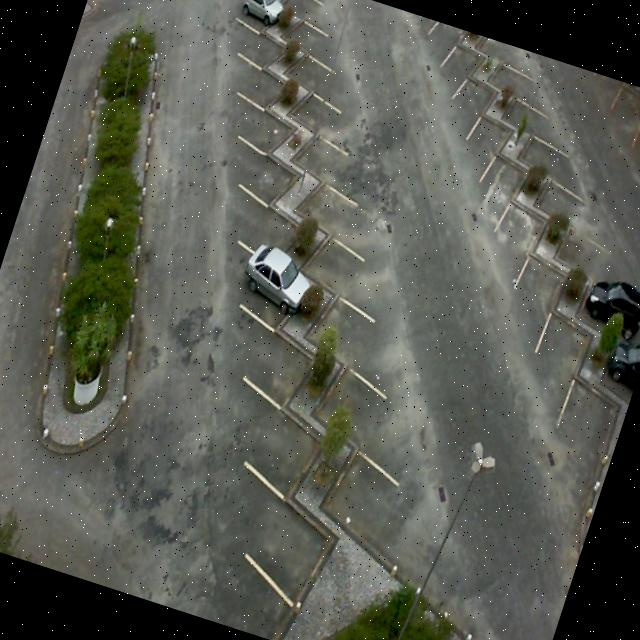empty: (239, 463, 362, 608), (240, 374, 346, 489), (326, 440, 422, 546), (302, 352, 400, 454), (238, 299, 334, 403), (310, 280, 396, 370), (300, 214, 387, 300), (550, 374, 624, 464), (300, 166, 380, 242), (240, 128, 317, 206), (237, 182, 314, 259), (508, 242, 573, 332), (296, 115, 374, 187), (531, 298, 596, 384), (557, 218, 631, 286), (286, 32, 358, 100), (234, 84, 305, 152), (488, 195, 550, 272), (470, 142, 532, 218), (233, 40, 299, 107), (458, 106, 516, 180), (538, 166, 604, 229), (296, 78, 360, 140), (432, 36, 489, 104), (506, 82, 570, 142), (445, 67, 501, 133), (236, 11, 298, 68), (520, 124, 578, 180), (286, 8, 344, 58), (420, 20, 470, 72), (494, 53, 546, 103), (606, 82, 640, 142), (480, 37, 530, 69), (277, 0, 335, 26), (628, 111, 640, 173)
occupied: (236, 235, 324, 331), (578, 271, 640, 347), (596, 339, 640, 412), (235, 0, 292, 33)
